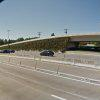Bridge: (4, 24, 92, 47)
